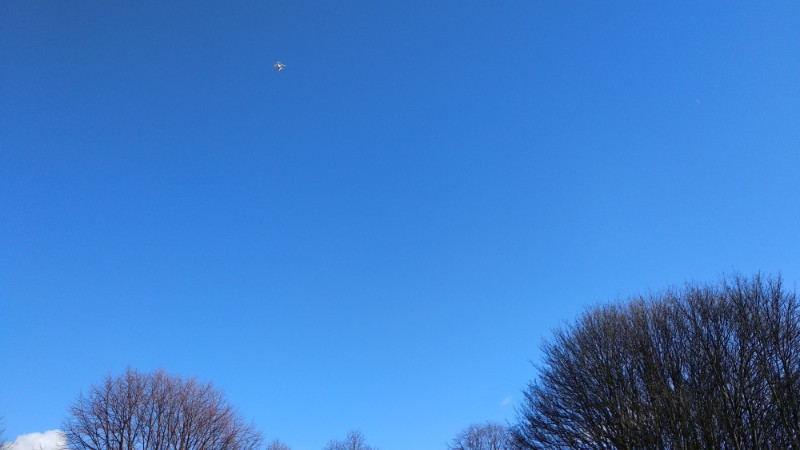drone: (272, 60, 287, 74)
